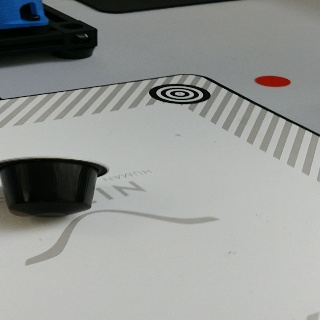capsule_10: (1, 157, 110, 216)
